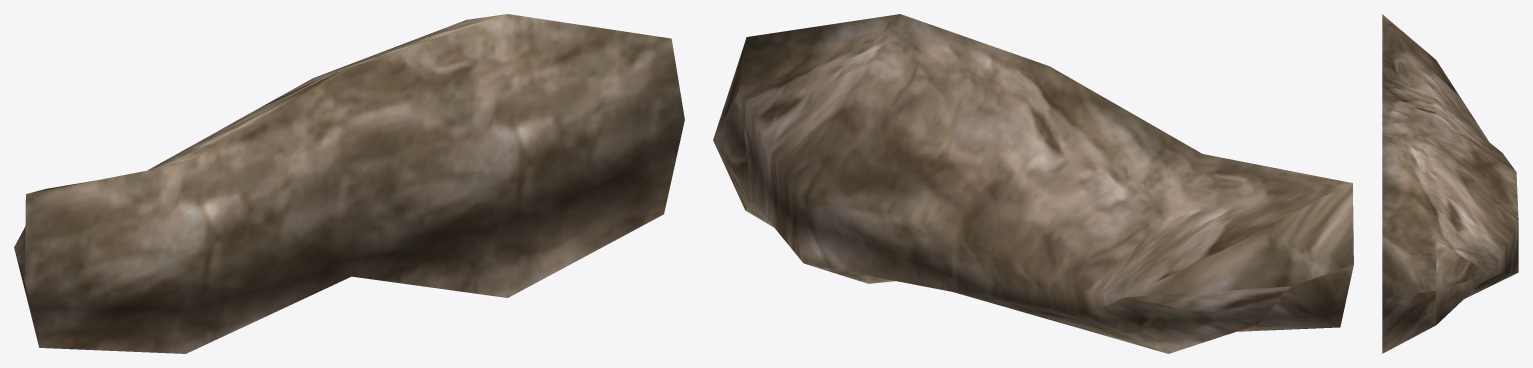
File: INST_OH_ROCK_05.fbx
3 renders of one model, left to right at view 1: azimuth 30°, elevation 25°; view 2: azimuth 150°, elevation 25°; view 3: azimuth 270°, elevation 25°, orthographic. The views are drawn at different scales.
Parts seen in each view (by area): view 1: INST_OH_ROCK_05; view 2: INST_OH_ROCK_05; view 3: INST_OH_ROCK_05.
Boxes of the visible parts, x1,y1,x2,y2 form: INST_OH_ROCK_05: (14,14,684,353); INST_OH_ROCK_05: (713,14,1353,353); INST_OH_ROCK_05: (1382,14,1518,353).
Bounding box in the file's own units: 12296 × 5056 × 3158.
1 material, 1 textured.
